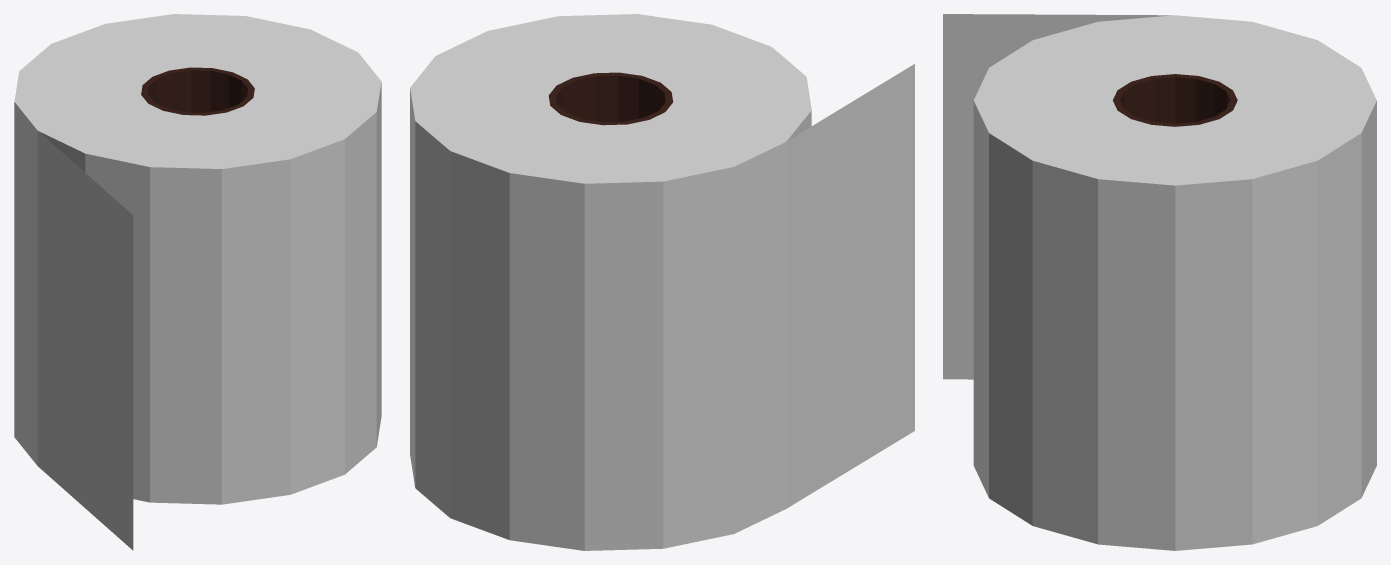
Rendered from toilet_paper.fbx.
The picture shows the model from 3 angles, left to right: view 1: azimuth 30°, elevation 25°; view 2: azimuth 150°, elevation 25°; view 3: azimuth 270°, elevation 25°; orthographic projection. The views are drawn at different scales.
Visible parts, largest first — view 1: Cylinder; view 2: Cylinder; view 3: Cylinder.
Part boxes in pixels (x1=…): Cylinder: x1=14, y1=14, x2=381, y2=550; Cylinder: x1=410, y1=14, x2=914, y2=550; Cylinder: x1=943, y1=14, x2=1376, y2=550.
Size of the model in its own units: 16.4 by 16.06 by 17.06.
